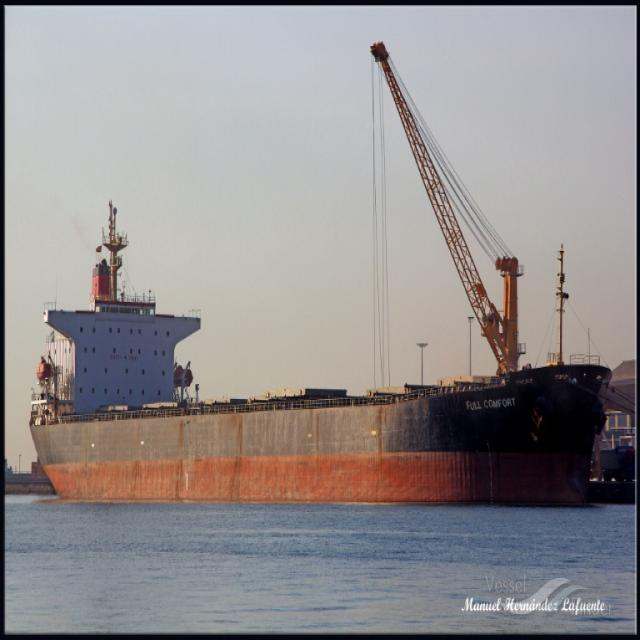OCR: (458, 389, 520, 418)
